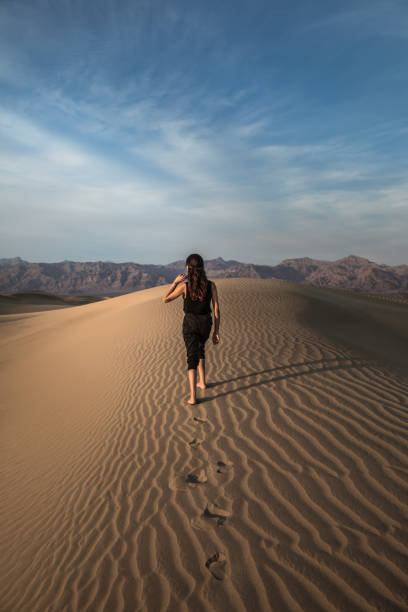human_footprint: (191, 500, 232, 531), (169, 466, 207, 490), (205, 551, 226, 580), (204, 502, 230, 524), (210, 460, 233, 484), (168, 472, 190, 490), (186, 468, 206, 483), (216, 460, 232, 472), (188, 438, 202, 447), (196, 382, 213, 389), (193, 416, 207, 423), (187, 398, 199, 404), (196, 383, 206, 389)
